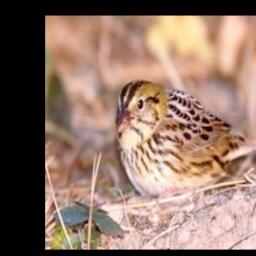Sparrow: (114, 77, 256, 203)
